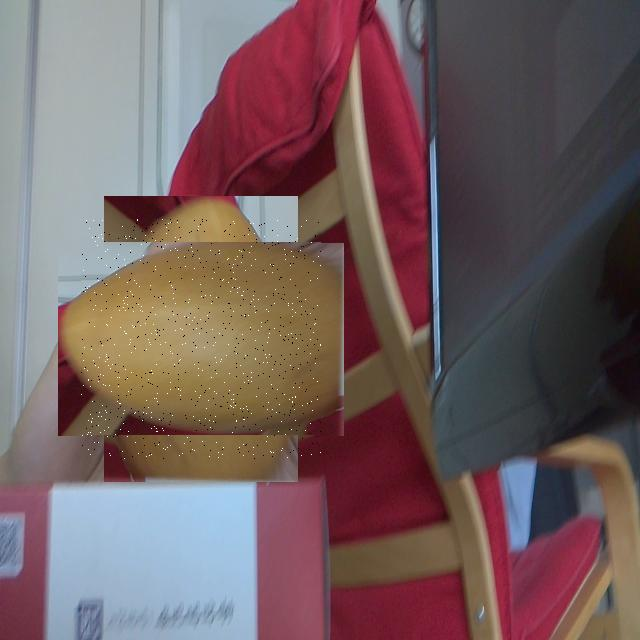pear: (81, 220, 321, 460)
